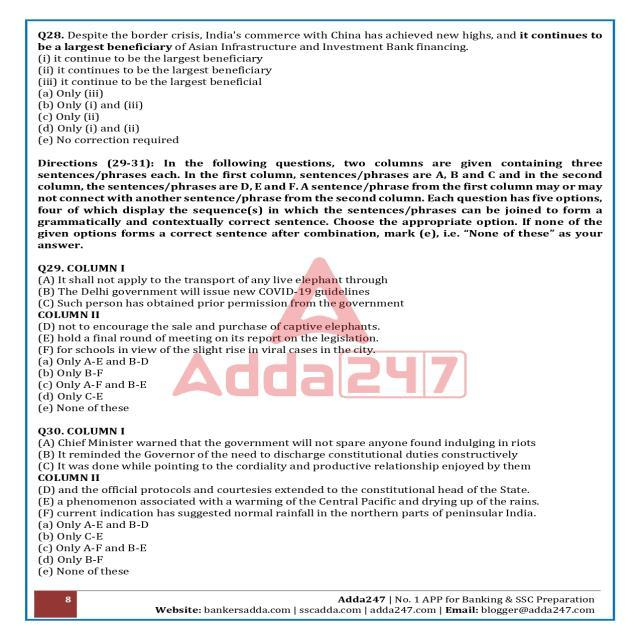Answer_Block: (24, 85, 613, 150), (24, 517, 613, 579)
Question_Answer_Block: (24, 19, 613, 150), (24, 312, 613, 416), (24, 476, 613, 578), (24, 250, 613, 312), (24, 415, 613, 475)
Question_Block: (24, 312, 613, 413), (24, 18, 613, 86), (24, 250, 613, 312), (24, 415, 613, 475), (24, 475, 613, 520)
Question_Paper_Area: (24, 19, 613, 618)
